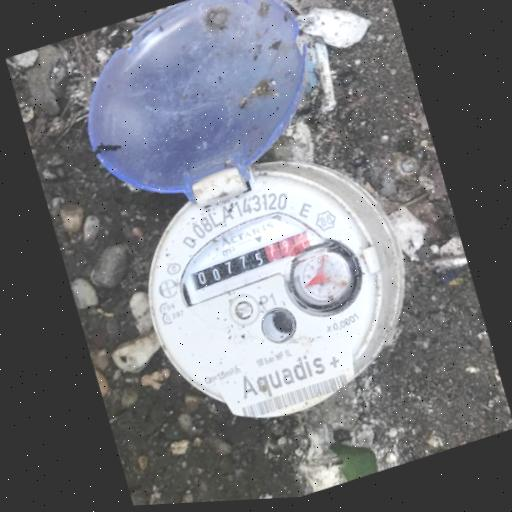0: (191, 267, 211, 290), (205, 262, 225, 285)
5: (247, 244, 270, 267)
6: (290, 230, 312, 256)
7: (231, 251, 254, 274), (218, 257, 238, 280), (263, 240, 283, 262)
9: (276, 235, 297, 260)
border_water_meter_number: (185, 225, 315, 294)
